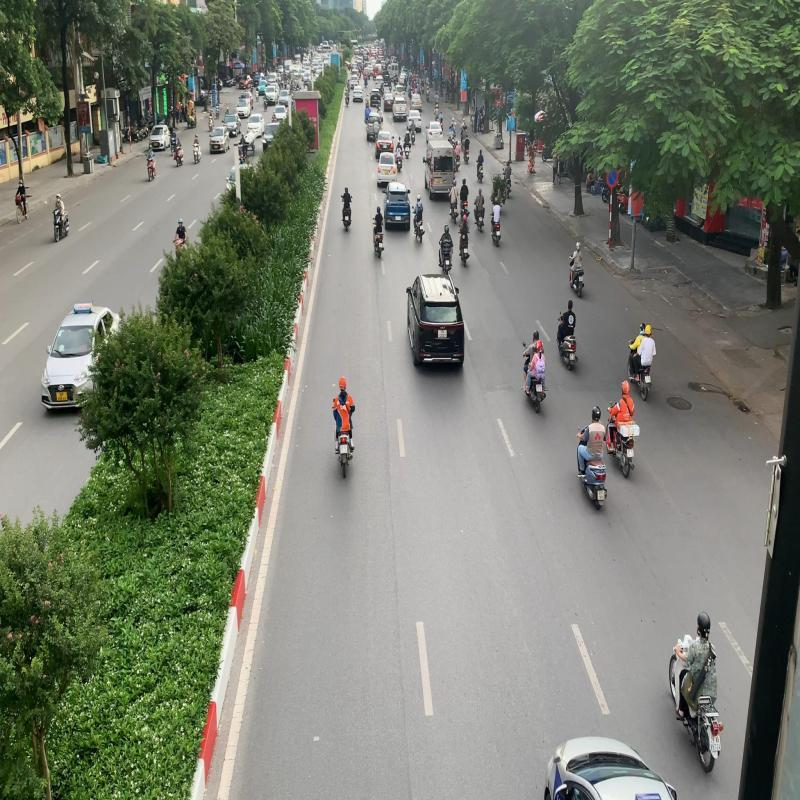helmet: (697, 612, 711, 637), (591, 406, 601, 422), (338, 375, 346, 392), (621, 380, 630, 394), (639, 322, 646, 335), (645, 324, 652, 336)
licenseplate: (709, 736, 721, 752), (340, 444, 348, 454), (627, 448, 634, 458), (598, 490, 604, 500), (645, 374, 651, 384)
motorcyclist: (668, 611, 724, 774), (605, 380, 640, 478), (576, 406, 608, 512), (332, 374, 356, 478), (626, 322, 656, 402)
